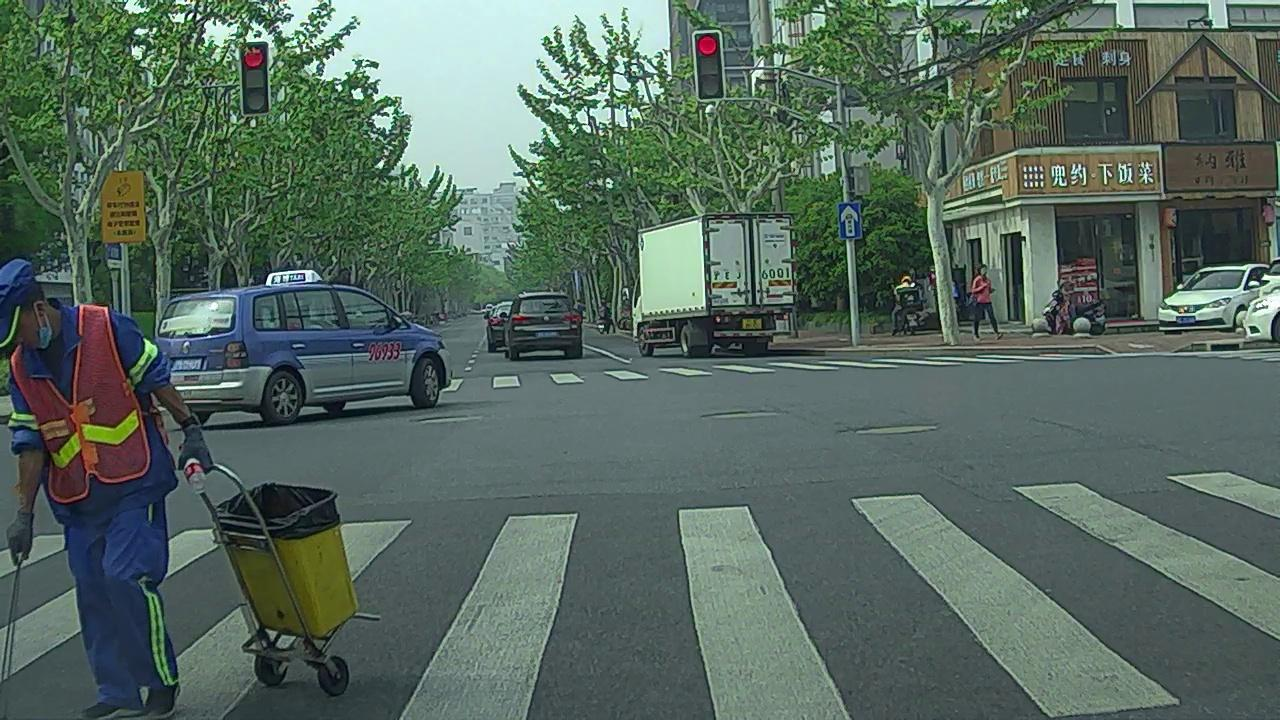traffic_light: (694, 33, 723, 98), (240, 45, 267, 113)
